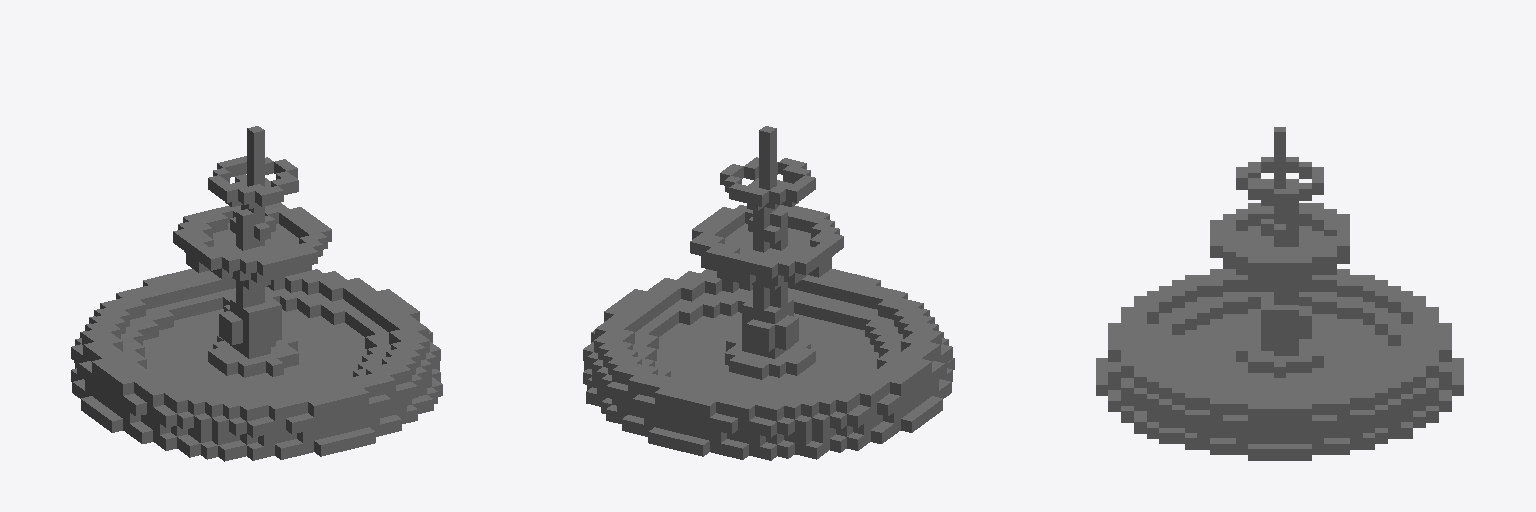
The model's file is fonte2.obj.
The picture shows the model from 3 angles: view 1: azimuth 30°, elevation 25°; view 2: azimuth 150°, elevation 25°; view 3: azimuth 270°, elevation 25°; orthographic projection.
Visible parts, largest first — view 1: fonte.001; view 2: fonte.001; view 3: fonte.001.
Boxes of the visible parts, box(x1,y1,x2,y2) form: fonte.001: box(71, 126, 442, 461); fonte.001: box(583, 126, 954, 460); fonte.001: box(1096, 127, 1463, 460).
Bounding box in the file's own units: 197 × 150 × 197.